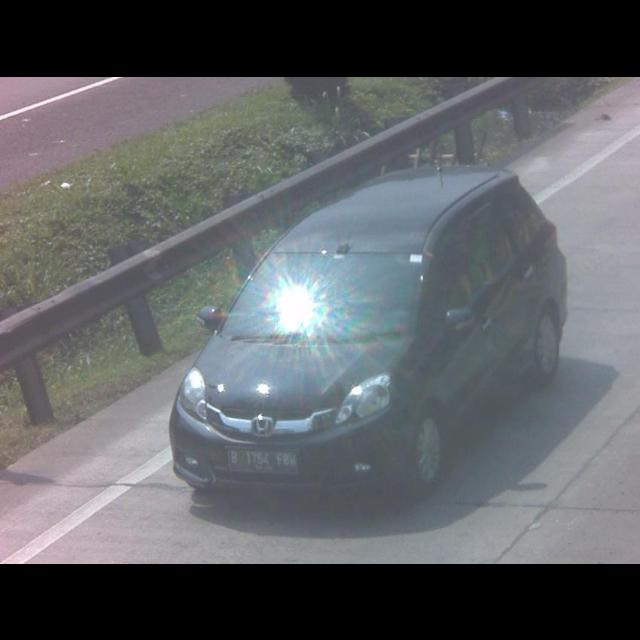plate: (225, 446, 299, 472)
